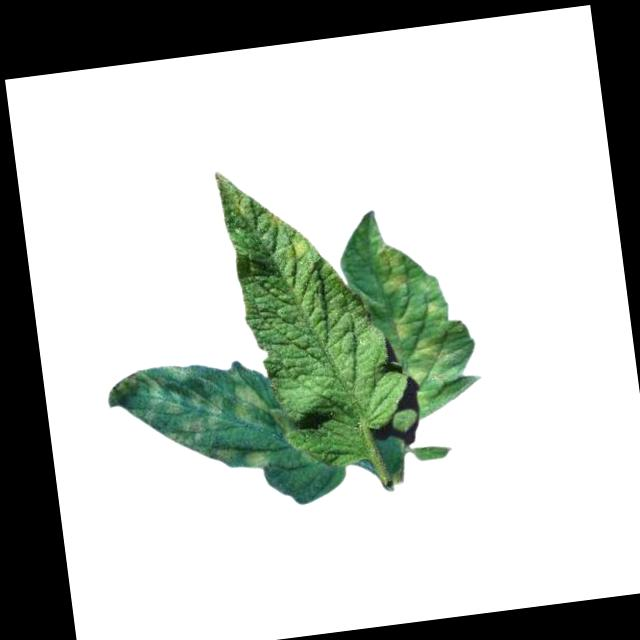Leaf_Mold: (104, 347, 298, 488), (373, 231, 457, 388), (286, 235, 314, 262)
